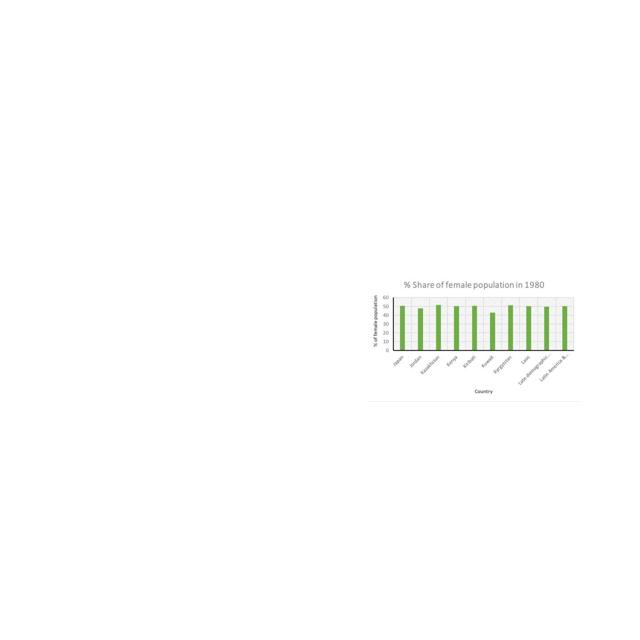Graph: (368, 275, 580, 402)
